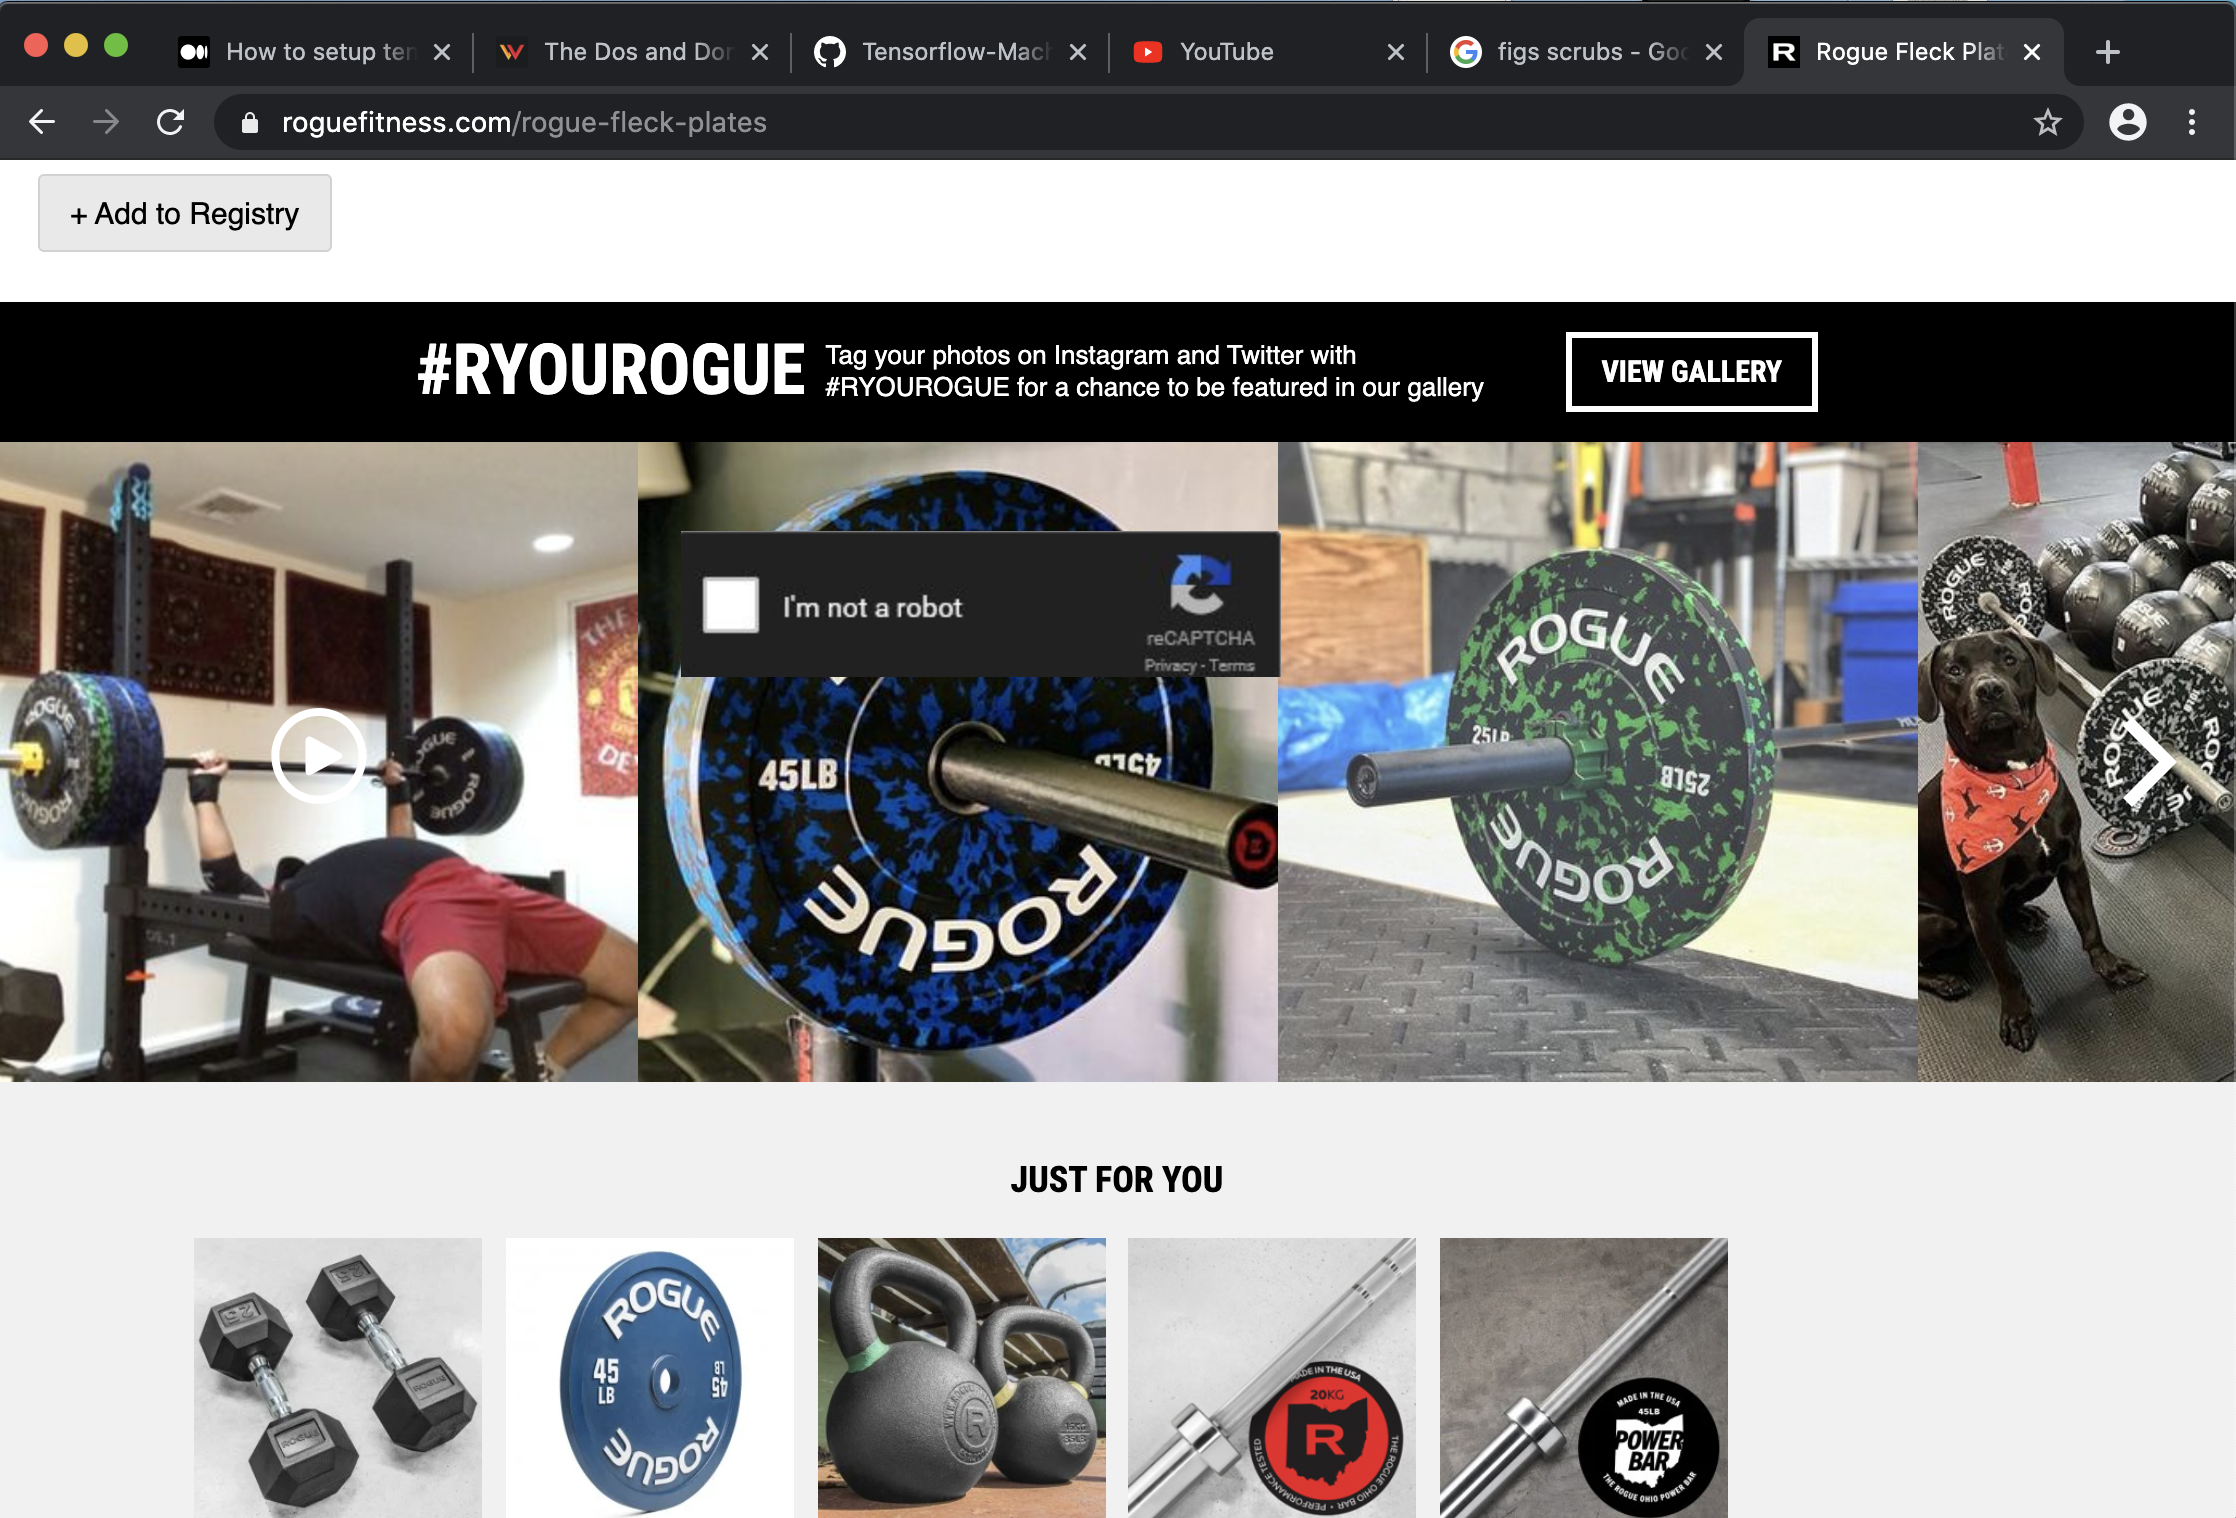captcha: (654, 525, 1298, 684)
